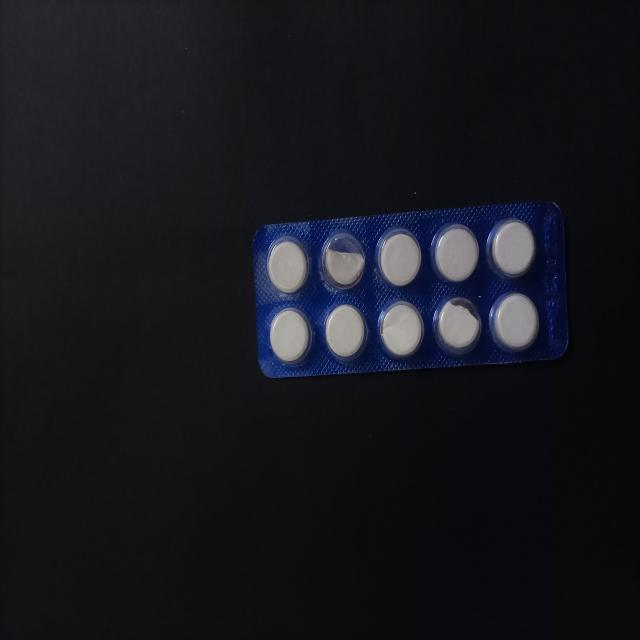defect: (431, 294, 484, 357), (317, 228, 368, 293)
